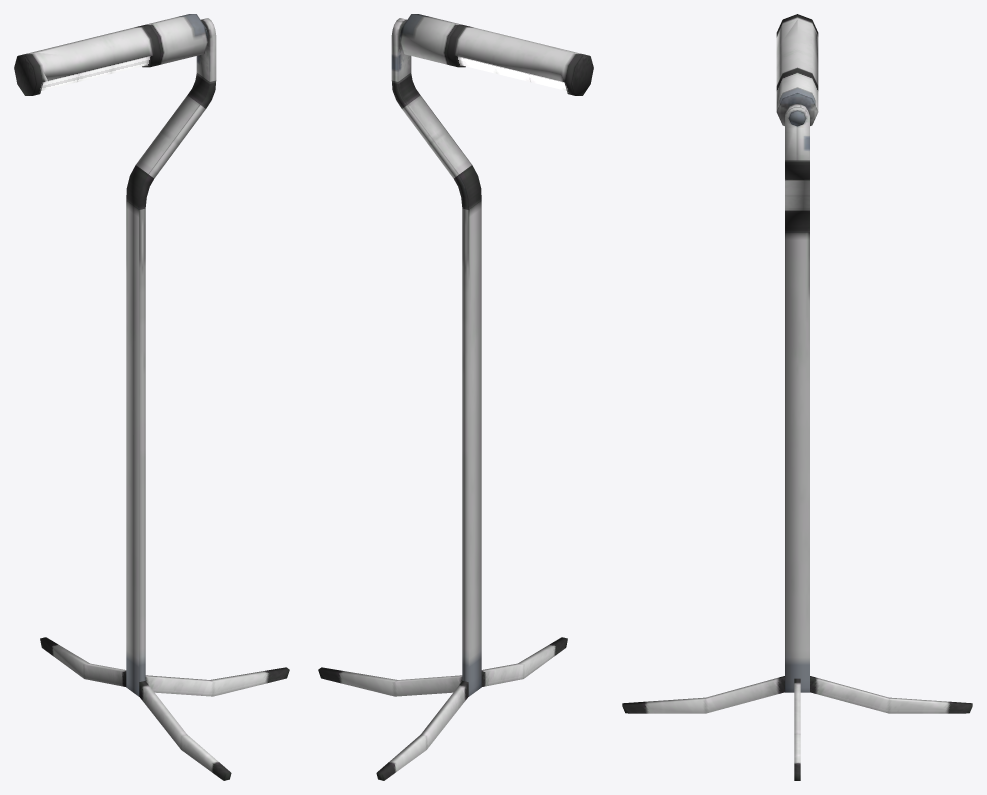
The model's file is Work_Lamp_02.FBX.
The picture shows the model from 3 angles, left to right: view 1: azimuth 30°, elevation 25°; view 2: azimuth 150°, elevation 25°; view 3: azimuth 270°, elevation 25°; orthographic projection. The views are drawn at different scales.
Parts seen in each view (by area): view 1: Work_Lamp_02; view 2: Work_Lamp_02; view 3: Work_Lamp_02.
Part boxes in pixels (x1,y1,x2,y2): Work_Lamp_02: (14, 14, 289, 780); Work_Lamp_02: (318, 14, 593, 780); Work_Lamp_02: (622, 14, 972, 780).
Bounding box in the file's own units: 0.8056 × 2 × 0.9842.
